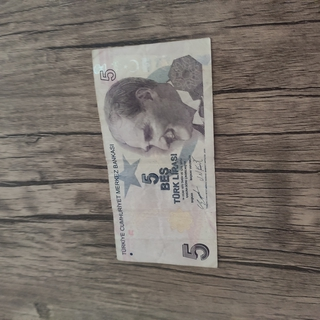5TLFront: (91, 36, 218, 270)
